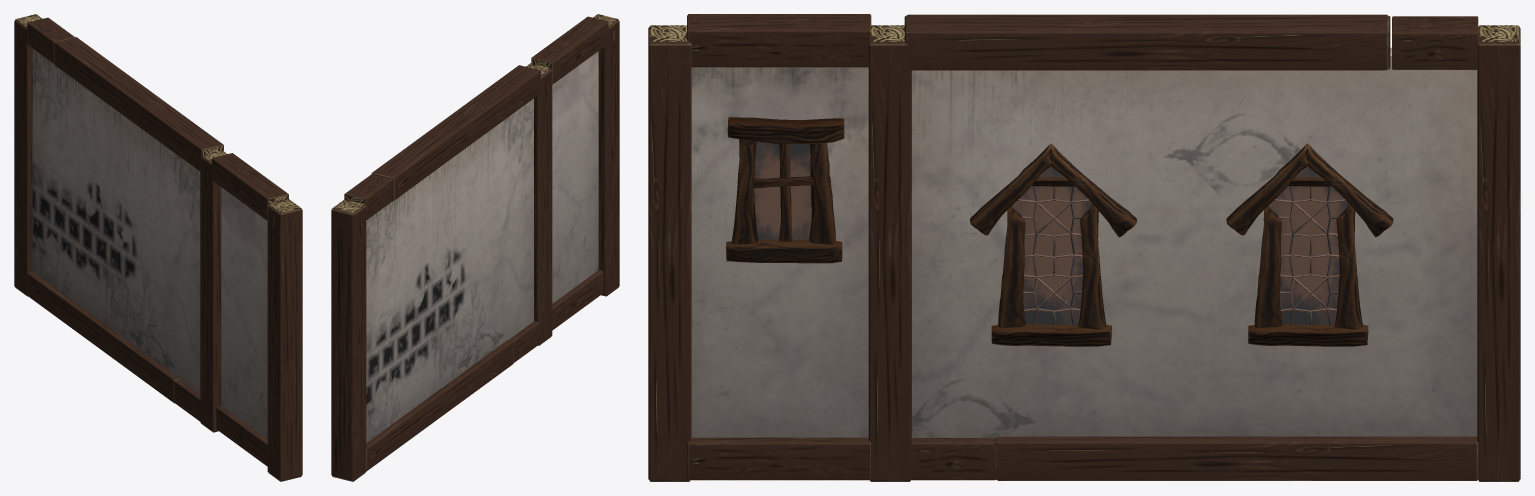
File: Wall_Piece_R3.fbx
3 renders of one model, left to right at view 1: azimuth 30°, elevation 25°; view 2: azimuth 150°, elevation 25°; view 3: azimuth 270°, elevation 25°, orthographic. The views are drawn at different scales.
Visible parts, largest first — view 1: Wall_20.005; view 2: Wall_20.005; view 3: Wall_20.005.
Part boxes in pixels (bbox=[...]): Wall_20.005: bbox=[14, 14, 302, 481]; Wall_20.005: bbox=[331, 14, 619, 481]; Wall_20.005: bbox=[648, 14, 1520, 481].
Size of the model in its own units: 35.77 by 357 by 626.
